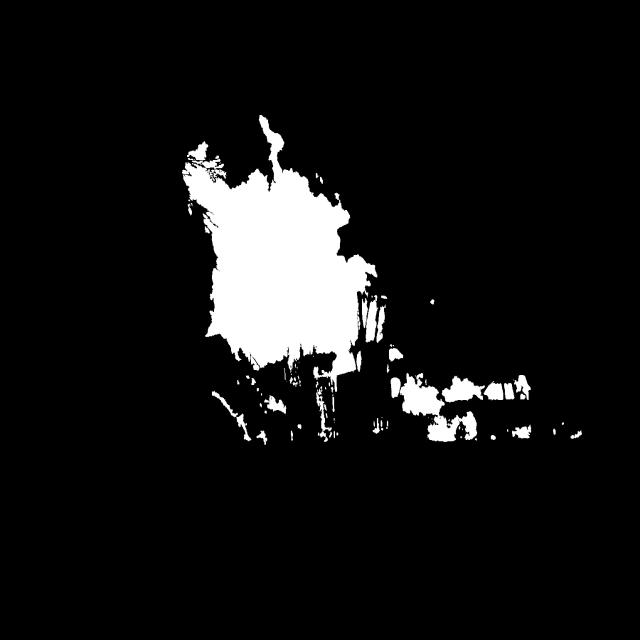fire: (114, 115, 596, 540)
